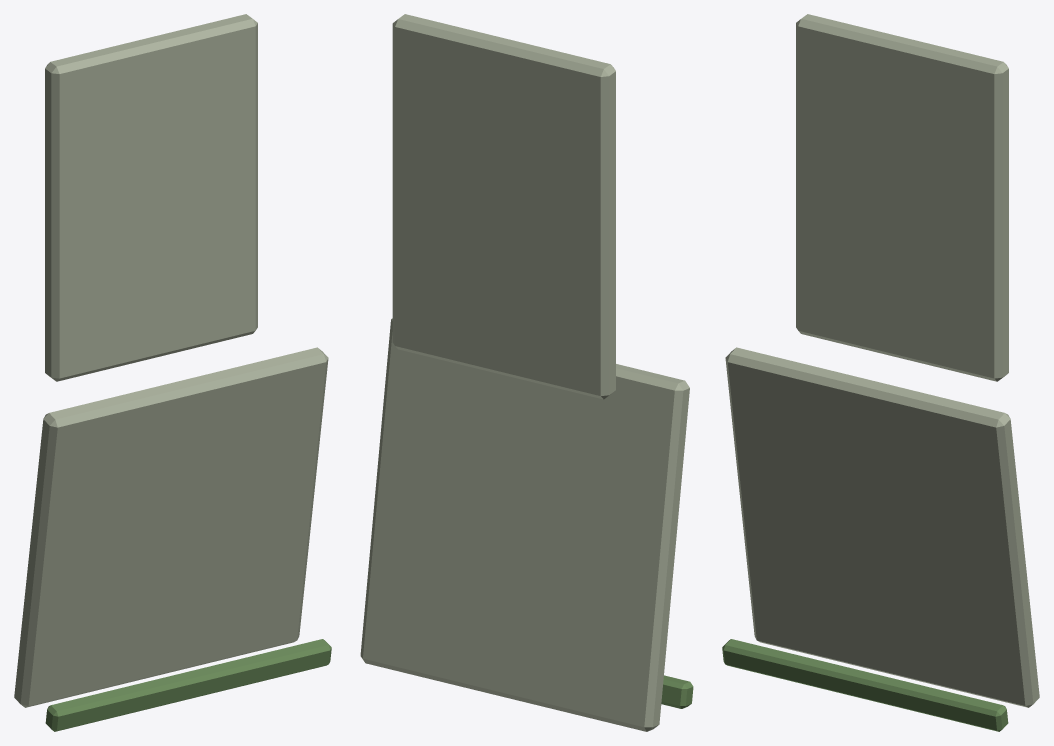
Rendered from lab_coat_flap.glb.
3 views of the same model, side by side, from view 1: azimuth 30°, elevation 25°; view 2: azimuth 150°, elevation 25°; view 3: azimuth 330°, elevation 25° (orthographic). The views are drawn at different scales.
Visible parts, largest first — view 1: part.lab_coat_flap; view 2: part.lab_coat_flap; view 3: part.lab_coat_flap.
Part boxes in pixels (x1=…): part.lab_coat_flap: x1=14, y1=14, x2=331, y2=731; part.lab_coat_flap: x1=360, y1=14, x2=693, y2=731; part.lab_coat_flap: x1=722, y1=14, x2=1039, y2=731.
Bounding box in the file's own units: 0.324 × 0.6994 × 0.0988.
